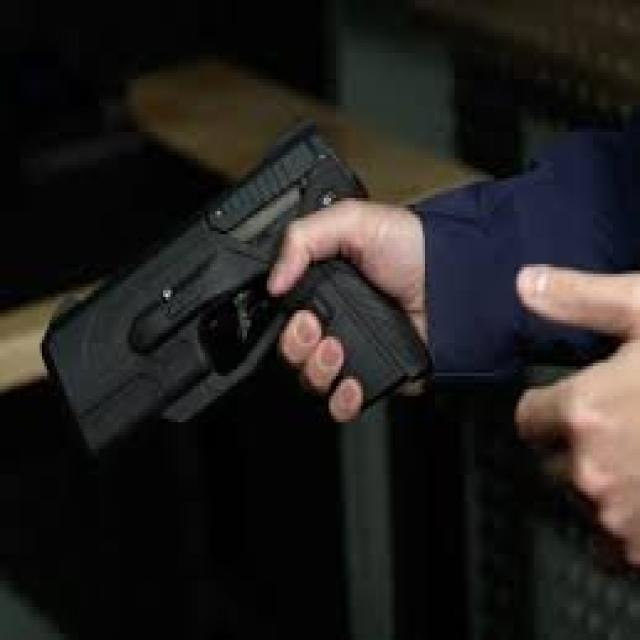weapons: (43, 107, 440, 460)
